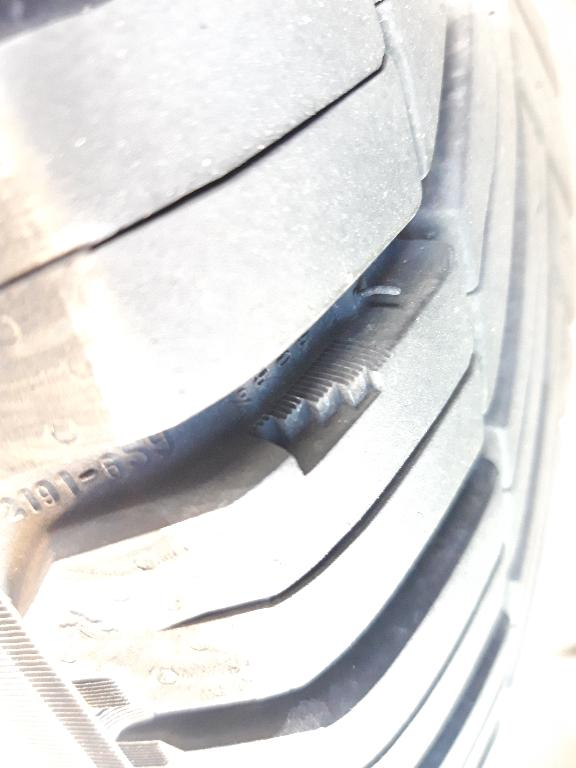temoin:90: (239, 334, 406, 486)
